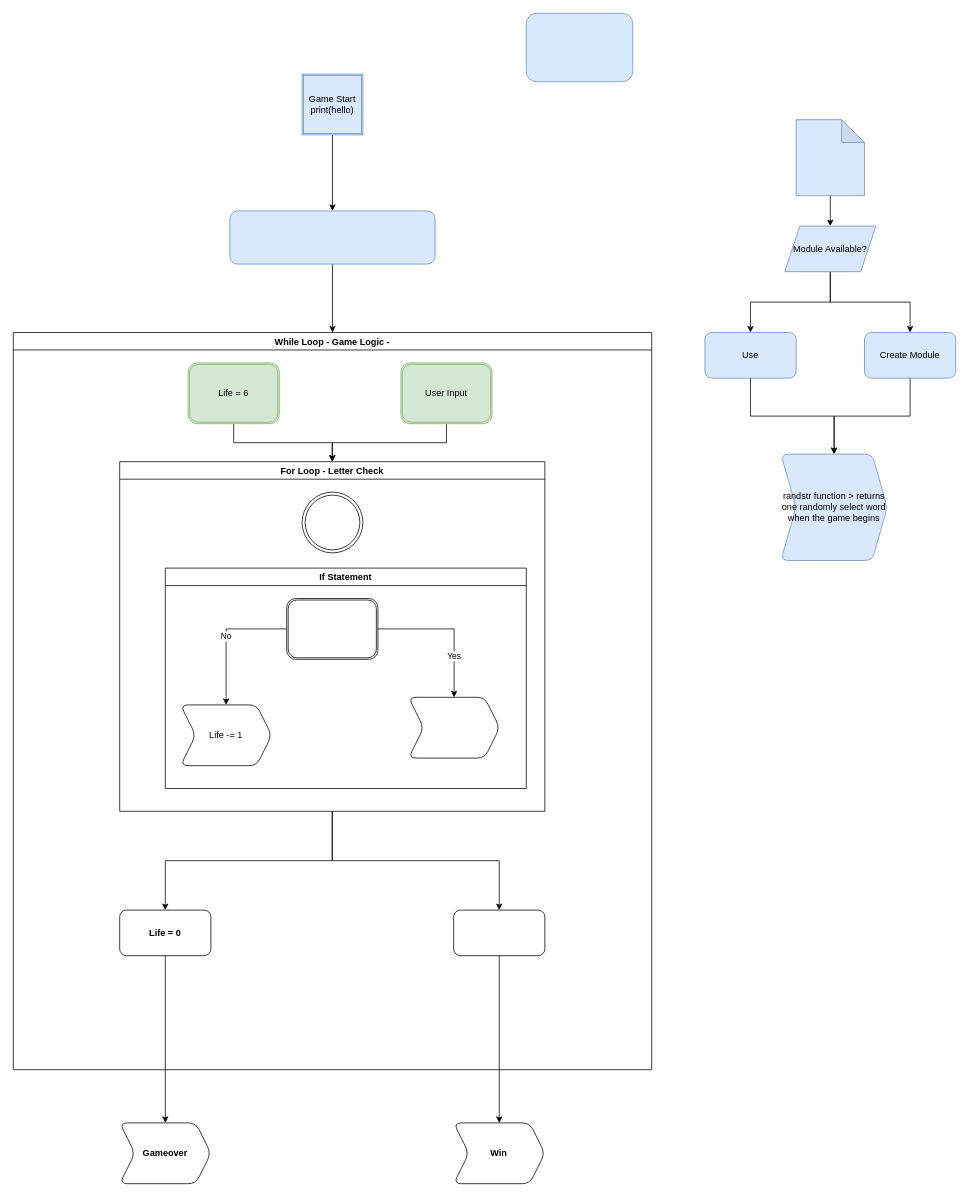
Some shapes in this 969 by 1197 pixel diagram are drawn without their labels. The centre of each missing label's shape, as x and y in pixels:
Guess = Word: the point at 499,932
Guess > Update Index: the point at 454,727
Hangman: the point at 579,47
i = letter: the point at 332,522
Random Word Gen: the point at 829,157
User Input = Letter: the point at 332,628
Word = randstr guess = _ _ _ _ < equals the len of the word Word_com = len(word): the point at 332,237
